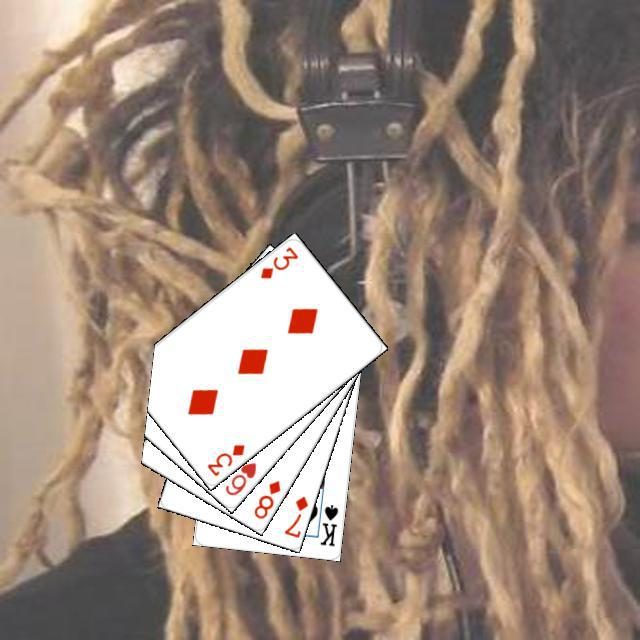3d: (255, 241, 300, 281), (202, 439, 247, 478)
6h: (220, 457, 258, 498)
7d: (279, 491, 310, 539)
8d: (249, 475, 282, 521)
Ks: (315, 500, 340, 548)
